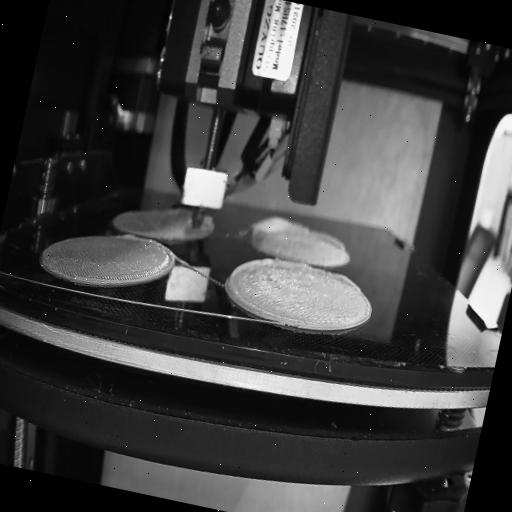over_extrusion: (221, 248, 306, 323), (242, 200, 312, 252), (324, 268, 365, 294), (312, 227, 350, 253), (115, 228, 144, 244), (202, 213, 216, 228)
